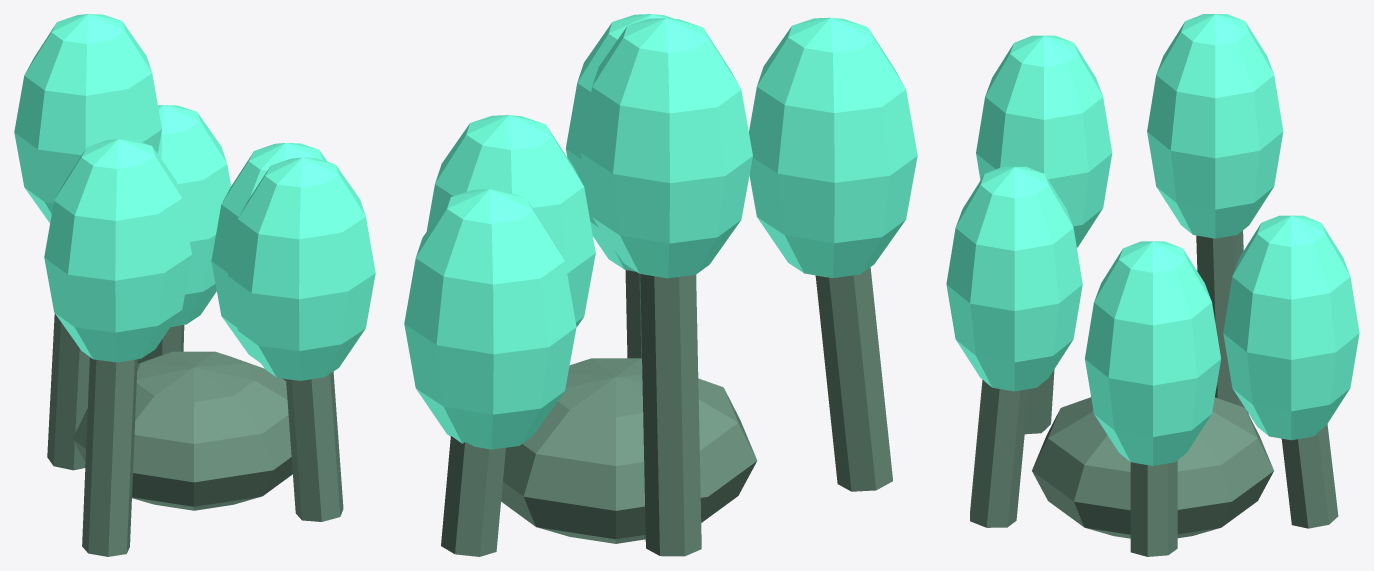
Rendered from lumemoss-young.glb.
3 renders of one model, left to right at view 1: azimuth 30°, elevation 25°; view 2: azimuth 150°, elevation 25°; view 3: azimuth 270°, elevation 25°, orthographic. The views are drawn at different scales.
Visible parts, largest first — view 1: lumemoss.sway-pivot; view 2: lumemoss.sway-pivot; view 3: lumemoss.sway-pivot.
Part boxes in pixels (bbox=[...]): lumemoss.sway-pivot: bbox=[14, 14, 375, 556]; lumemoss.sway-pivot: bbox=[404, 14, 917, 556]; lumemoss.sway-pivot: bbox=[946, 14, 1359, 556].
Bounding box in the file's own units: 0.2527 × 0.3264 × 0.2578.
